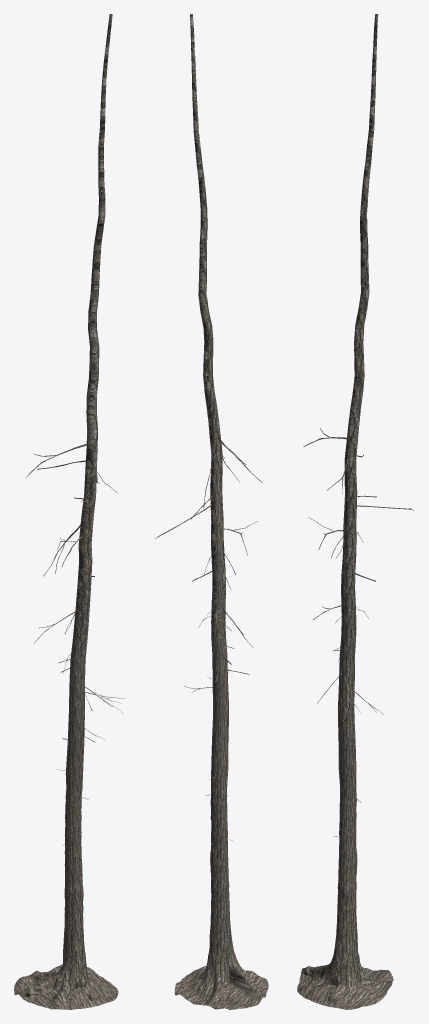
The model's file is fir_tree_01_bare_v04.glb.
The picture shows the model from 3 angles, left to right: view 1: azimuth 30°, elevation 25°; view 2: azimuth 150°, elevation 25°; view 3: azimuth 330°, elevation 25°; orthographic projection. The views are drawn at different scales.
Visible parts, largest first — view 1: fir_tree_01_c_LOD0; view 2: fir_tree_01_c_LOD0; view 3: fir_tree_01_c_LOD0.
Part boxes in pixels (x1,y1,x2,y2): fir_tree_01_c_LOD0: (14,14,124,1009); fir_tree_01_c_LOD0: (155,14,268,1009); fir_tree_01_c_LOD0: (297,14,413,1009).
Bounding box in the file's own units: 1.35 × 13.32 × 1.36.
2 materials, 2 textured.
